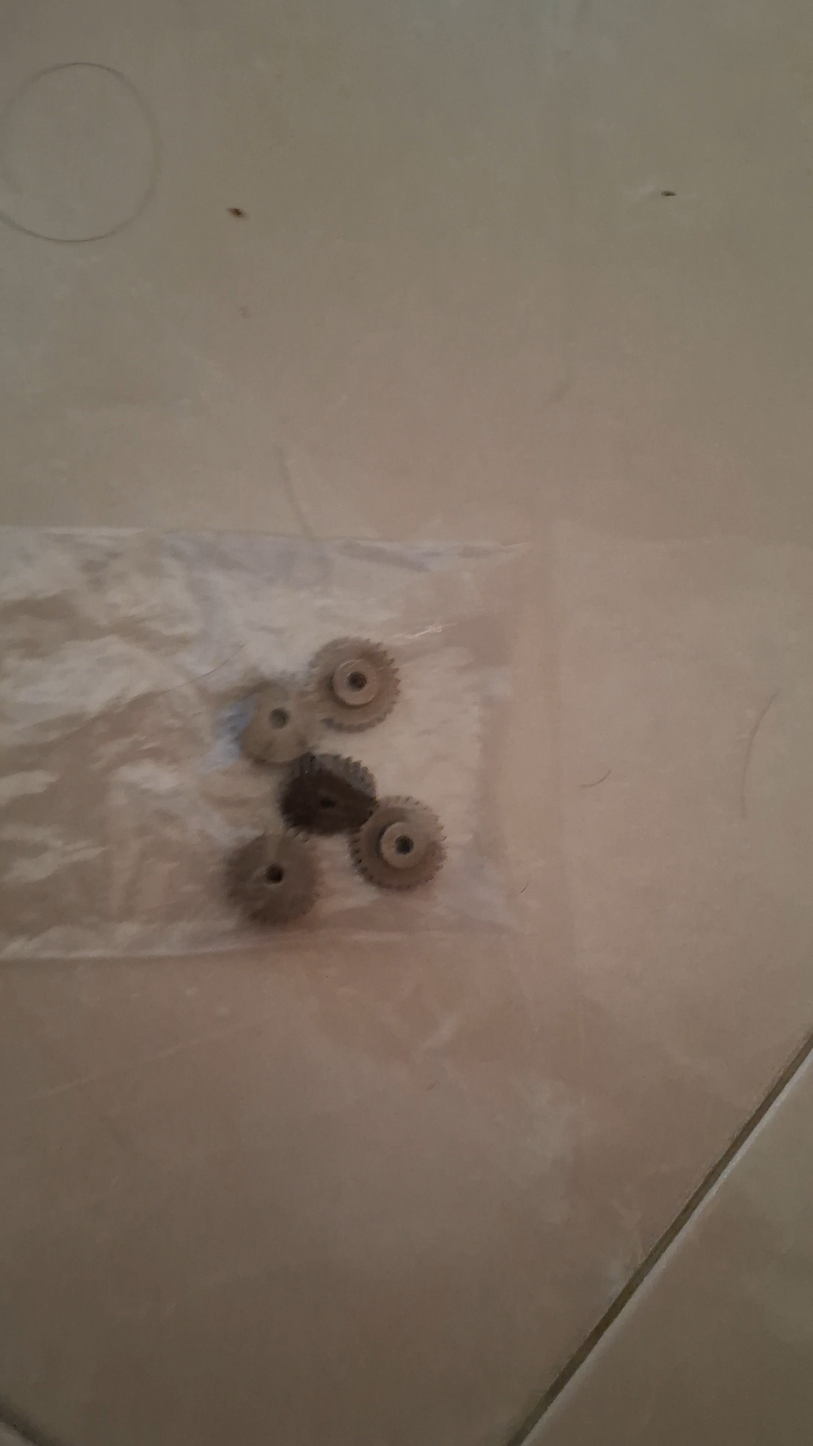spur gear: (351, 797, 445, 889), (227, 830, 317, 924), (310, 639, 399, 730), (280, 753, 375, 834), (241, 679, 316, 764)
